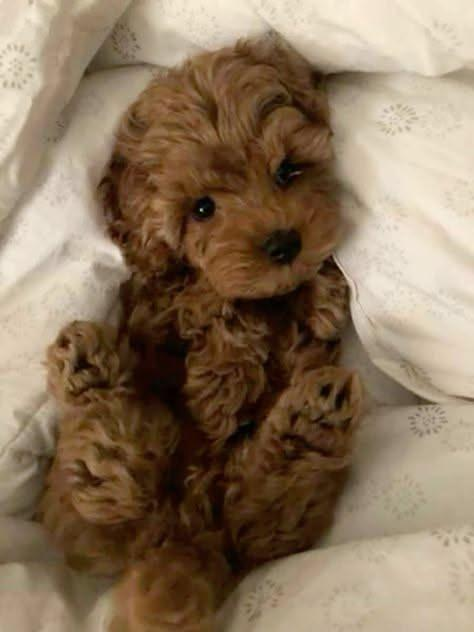puppy-dog: (35, 41, 375, 632)
